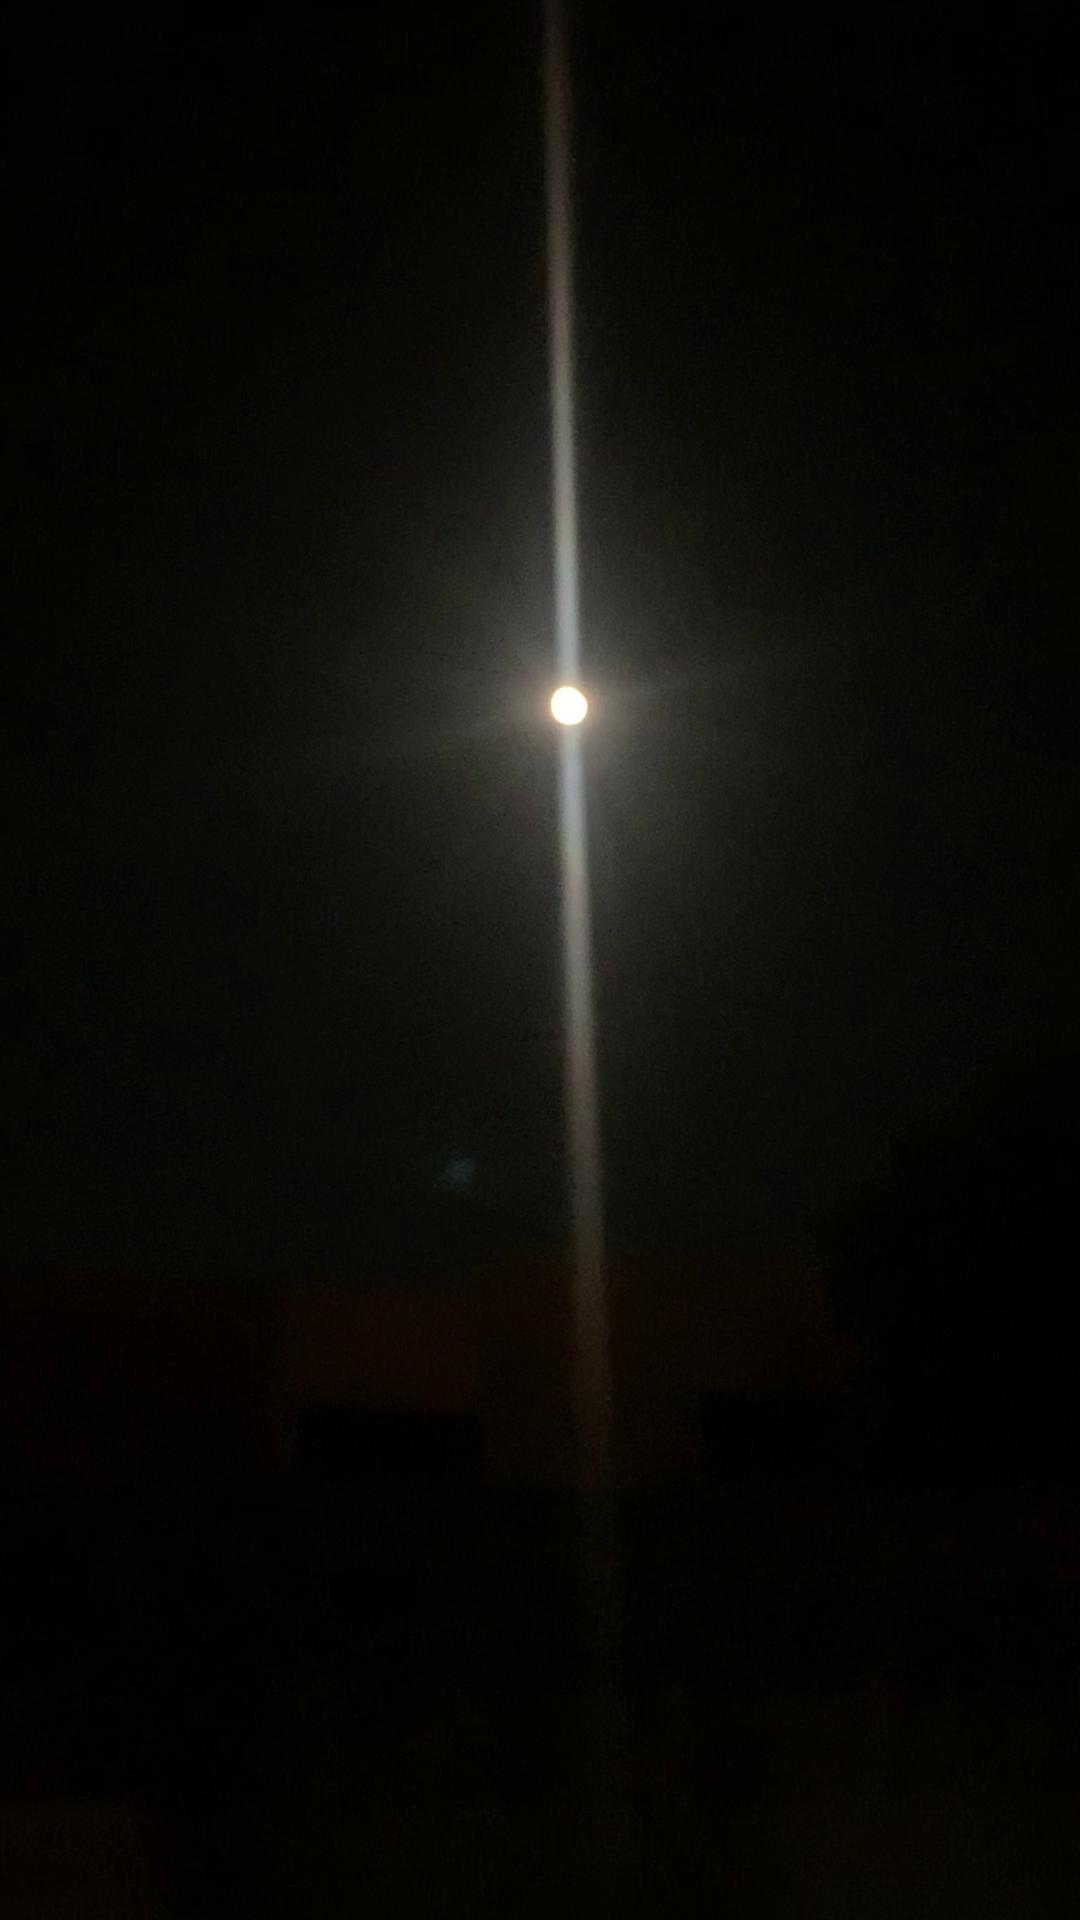moon: (521, 662, 629, 761)
